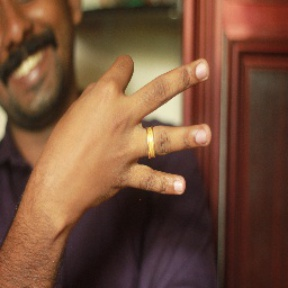K: (39, 51, 216, 206)
